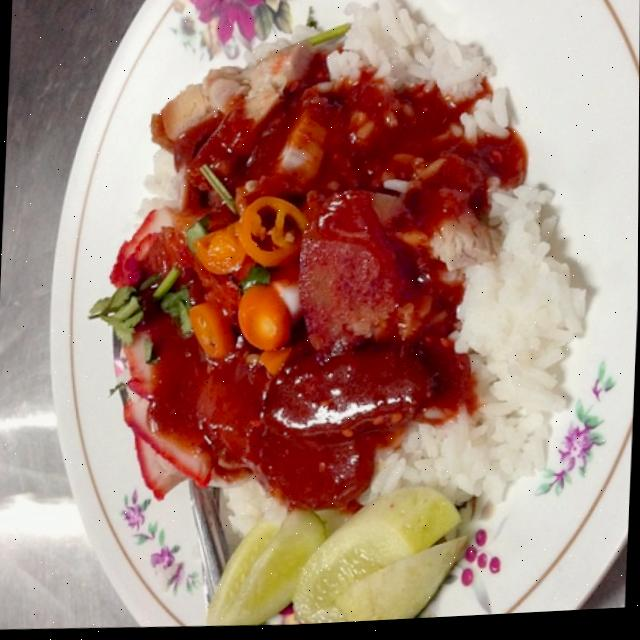猪肉菜式: (59, 0, 585, 626)
